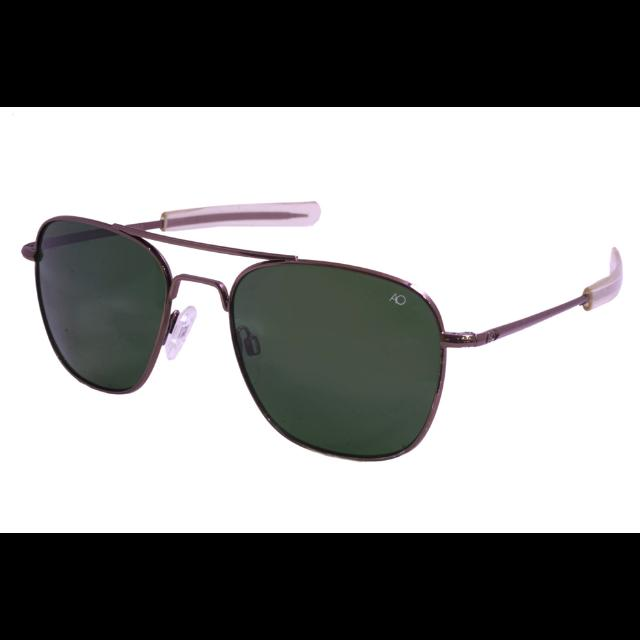Sunglasses: (15, 196, 629, 464)
